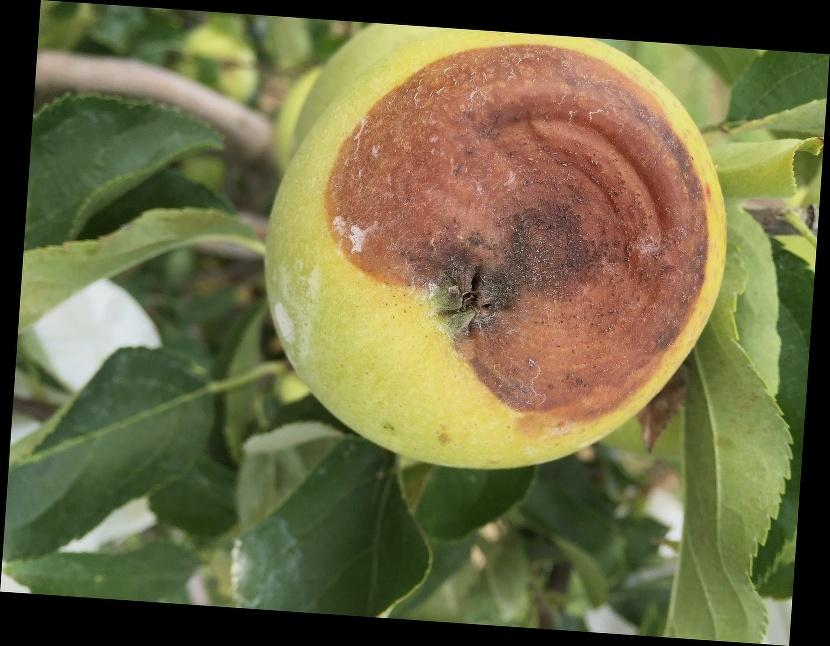rotten apple: (264, 32, 727, 472)
